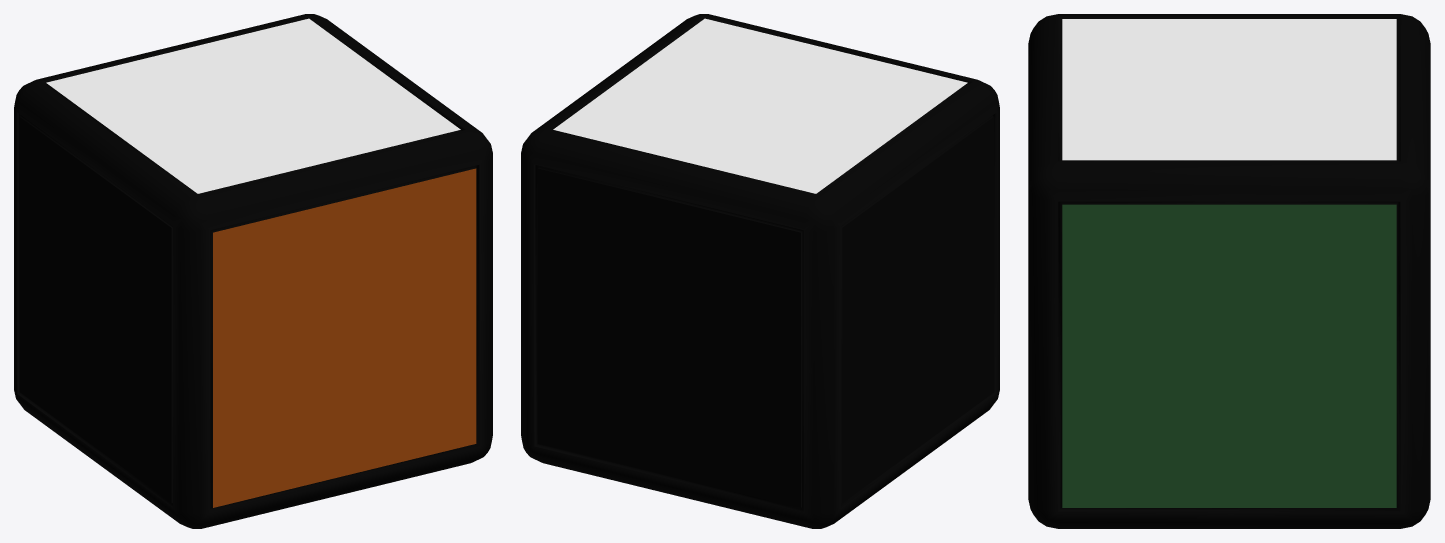
The model's file is oneCubeObjToOrg.gltf.
The picture shows the model from 3 angles, left to right: view 1: azimuth 30°, elevation 25°; view 2: azimuth 150°, elevation 25°; view 3: azimuth 270°, elevation 25°; orthographic projection. The views are drawn at different scales.
Visible parts, largest first — view 1: Cube.022; view 2: Cube.022; view 3: Cube.022.
Part boxes in pixels (x1,y1,x2,y2): Cube.022: (14,14,492,528); Cube.022: (521,14,999,528); Cube.022: (1028,14,1430,528).
Bounding box in the file's own units: 2 × 2 × 2.
